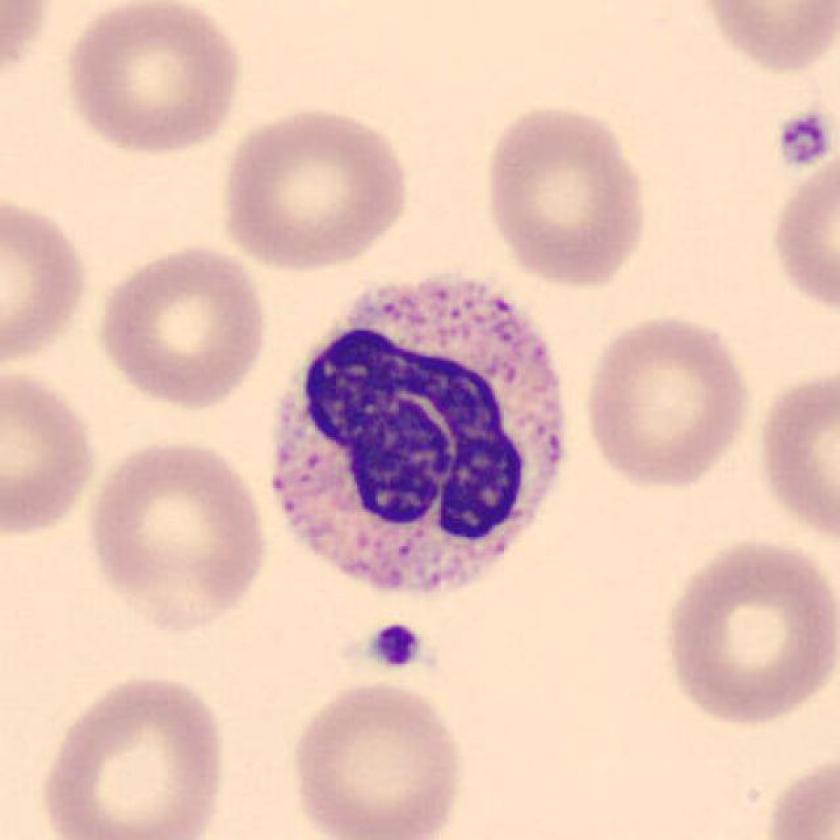neutrophil: (279, 278, 563, 596)
